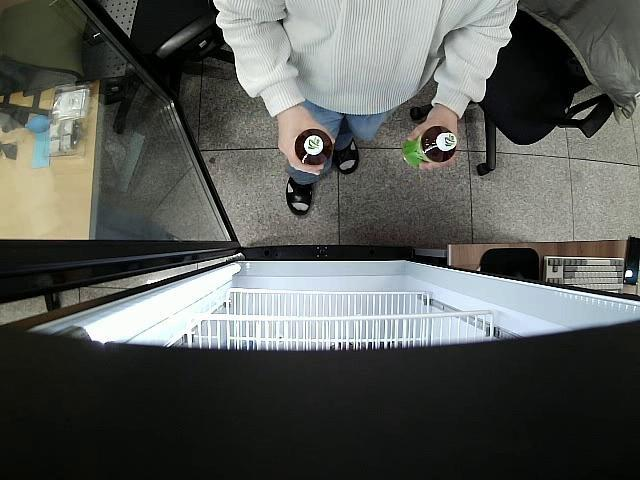19_17cha: (402, 126, 456, 170), (294, 130, 333, 167)
